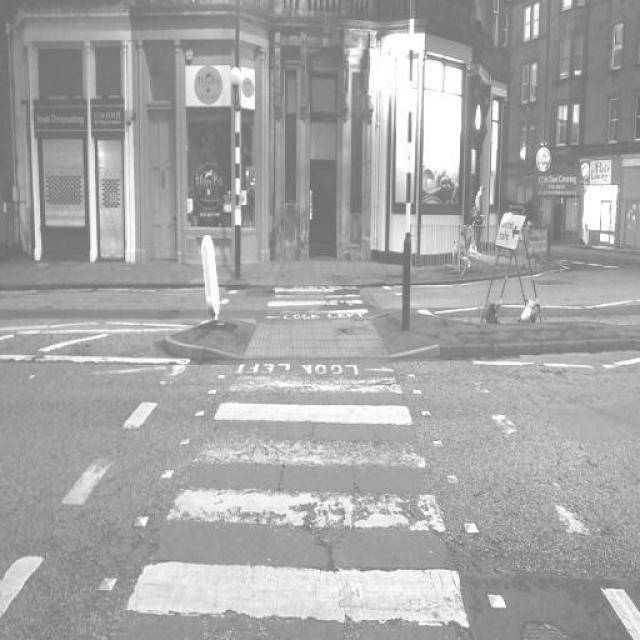crosswalk: (125, 371, 475, 634), (267, 285, 370, 315)
